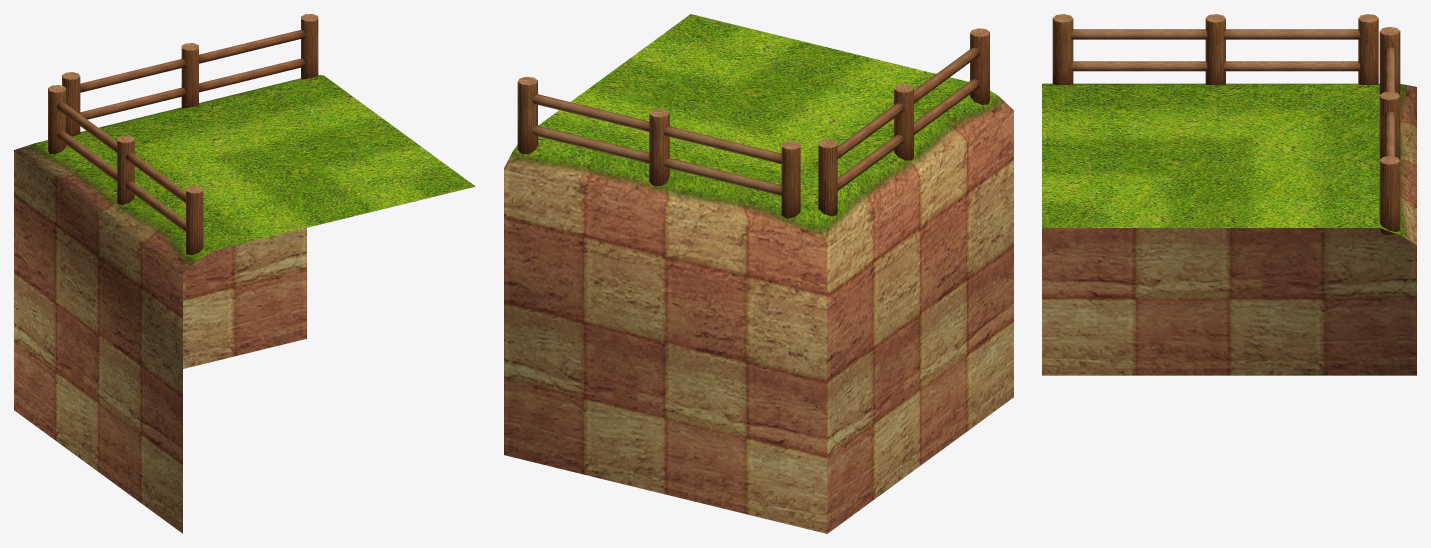
The model's file is Ground08.FBX.
3 views of the same model, side by side, from view 1: azimuth 30°, elevation 25°; view 2: azimuth 150°, elevation 25°; view 3: azimuth 270°, elevation 25° (orthographic). The views are drawn at different scales.
Visible parts, largest first — view 1: Ground, Fence (×2); view 2: Ground, Fence (×2); view 3: Ground, Fence (×2).
Part boxes in pixels (x1,y1,x2,y2): Ground: (14, 75, 475, 533); Fence (×2): (48, 14, 318, 255); Ground: (504, 14, 1013, 533); Fence (×2): (517, 28, 989, 218); Ground: (1042, 83, 1416, 375); Fence (×2): (1052, 14, 1400, 234).
Bounding box in the file's own units: 4.23 × 4.59 × 4.23.
